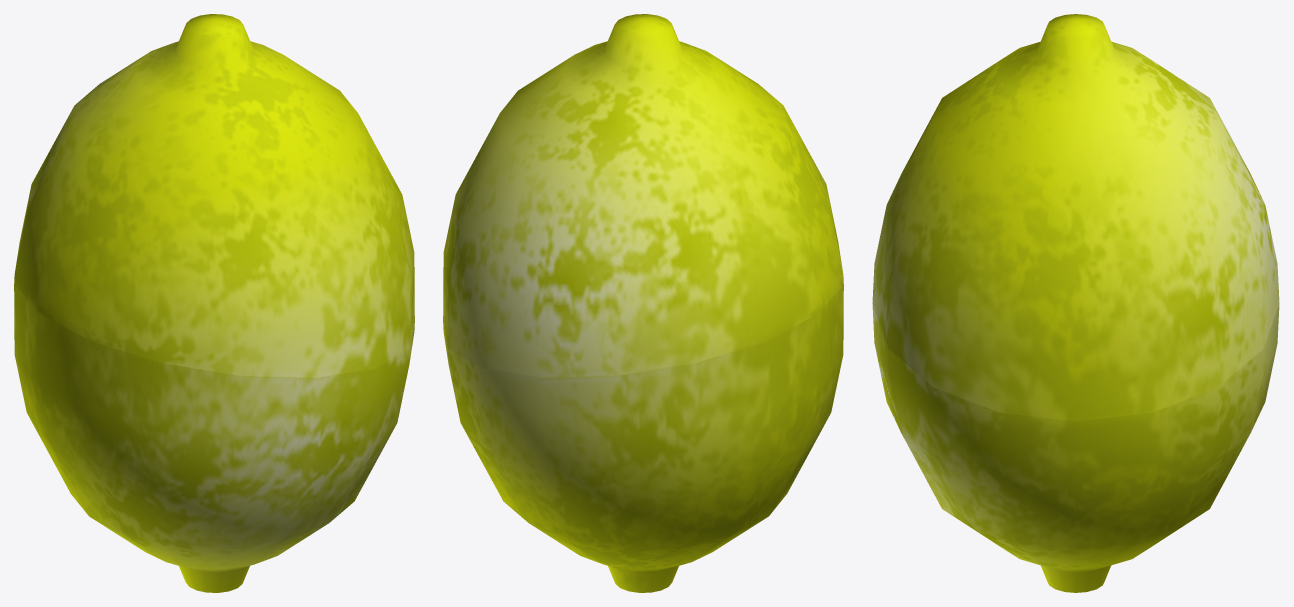
The model's file is Limao.FBX.
The picture shows the model from 3 angles, left to right: view 1: azimuth 30°, elevation 25°; view 2: azimuth 150°, elevation 25°; view 3: azimuth 270°, elevation 25°; orthographic projection.
Visible parts, largest first — view 1: Limao_Up, LIMAO_DOWN; view 2: Limao_Up, LIMAO_DOWN; view 3: Limao_Up, LIMAO_DOWN.
Boxes of the visible parts, box(x1,y1,x2,y2) form: Limao_Up: box(14, 14, 414, 377); LIMAO_DOWN: box(14, 285, 414, 592); Limao_Up: box(443, 14, 843, 377); LIMAO_DOWN: box(443, 285, 843, 592); Limao_Up: box(872, 14, 1279, 421); LIMAO_DOWN: box(872, 304, 1279, 592).
Size of the model in its own units: 13.85 by 21.46 by 13.96.
1 material, 1 textured.
